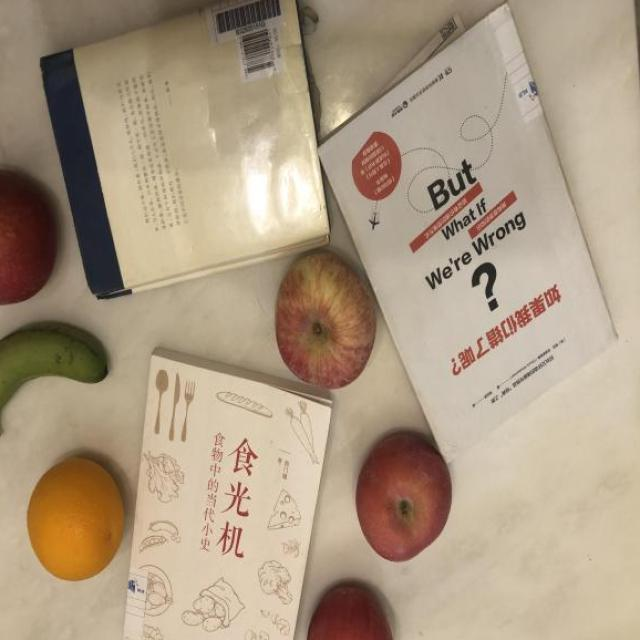Apple: (349, 420, 474, 595), (267, 241, 389, 399), (0, 156, 64, 334), (289, 548, 404, 640)
Banana: (0, 309, 132, 446)
Book: (302, 0, 640, 466), (16, 0, 395, 297), (104, 333, 360, 640)
Orange: (17, 437, 143, 599)
